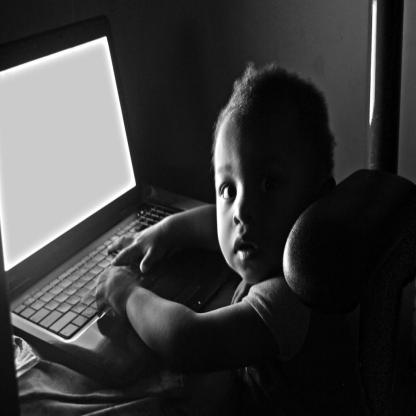board: (1, 29, 222, 396)
